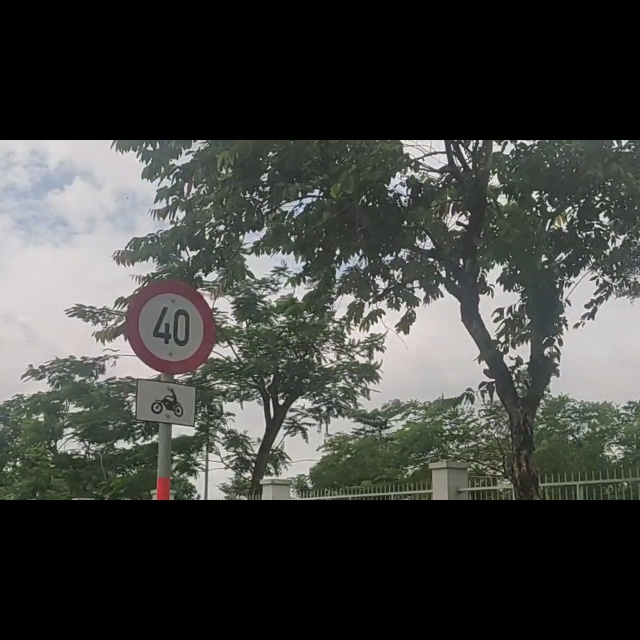Tốc độ tối đa cho phép 40km/h: (124, 277, 220, 373)
